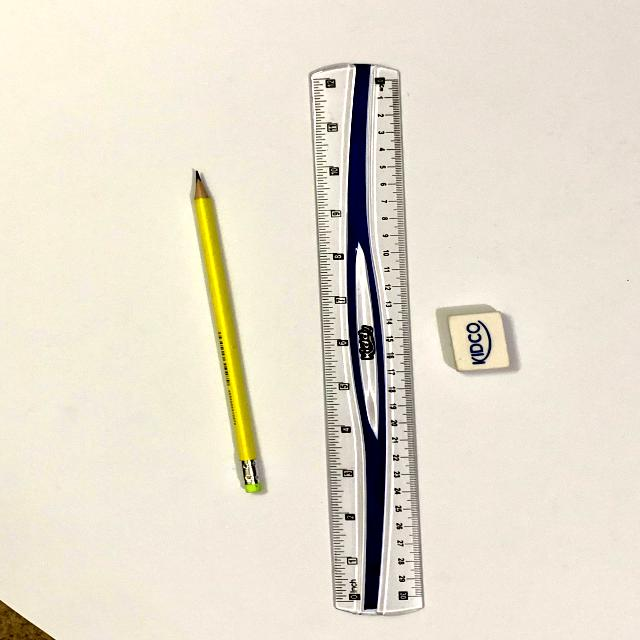Eraser: (430, 301, 530, 389)
Pencil: (159, 160, 301, 508)
Scale: (292, 47, 443, 628)
